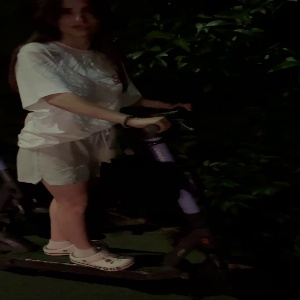human on a scooter: (1, 1, 258, 294)
